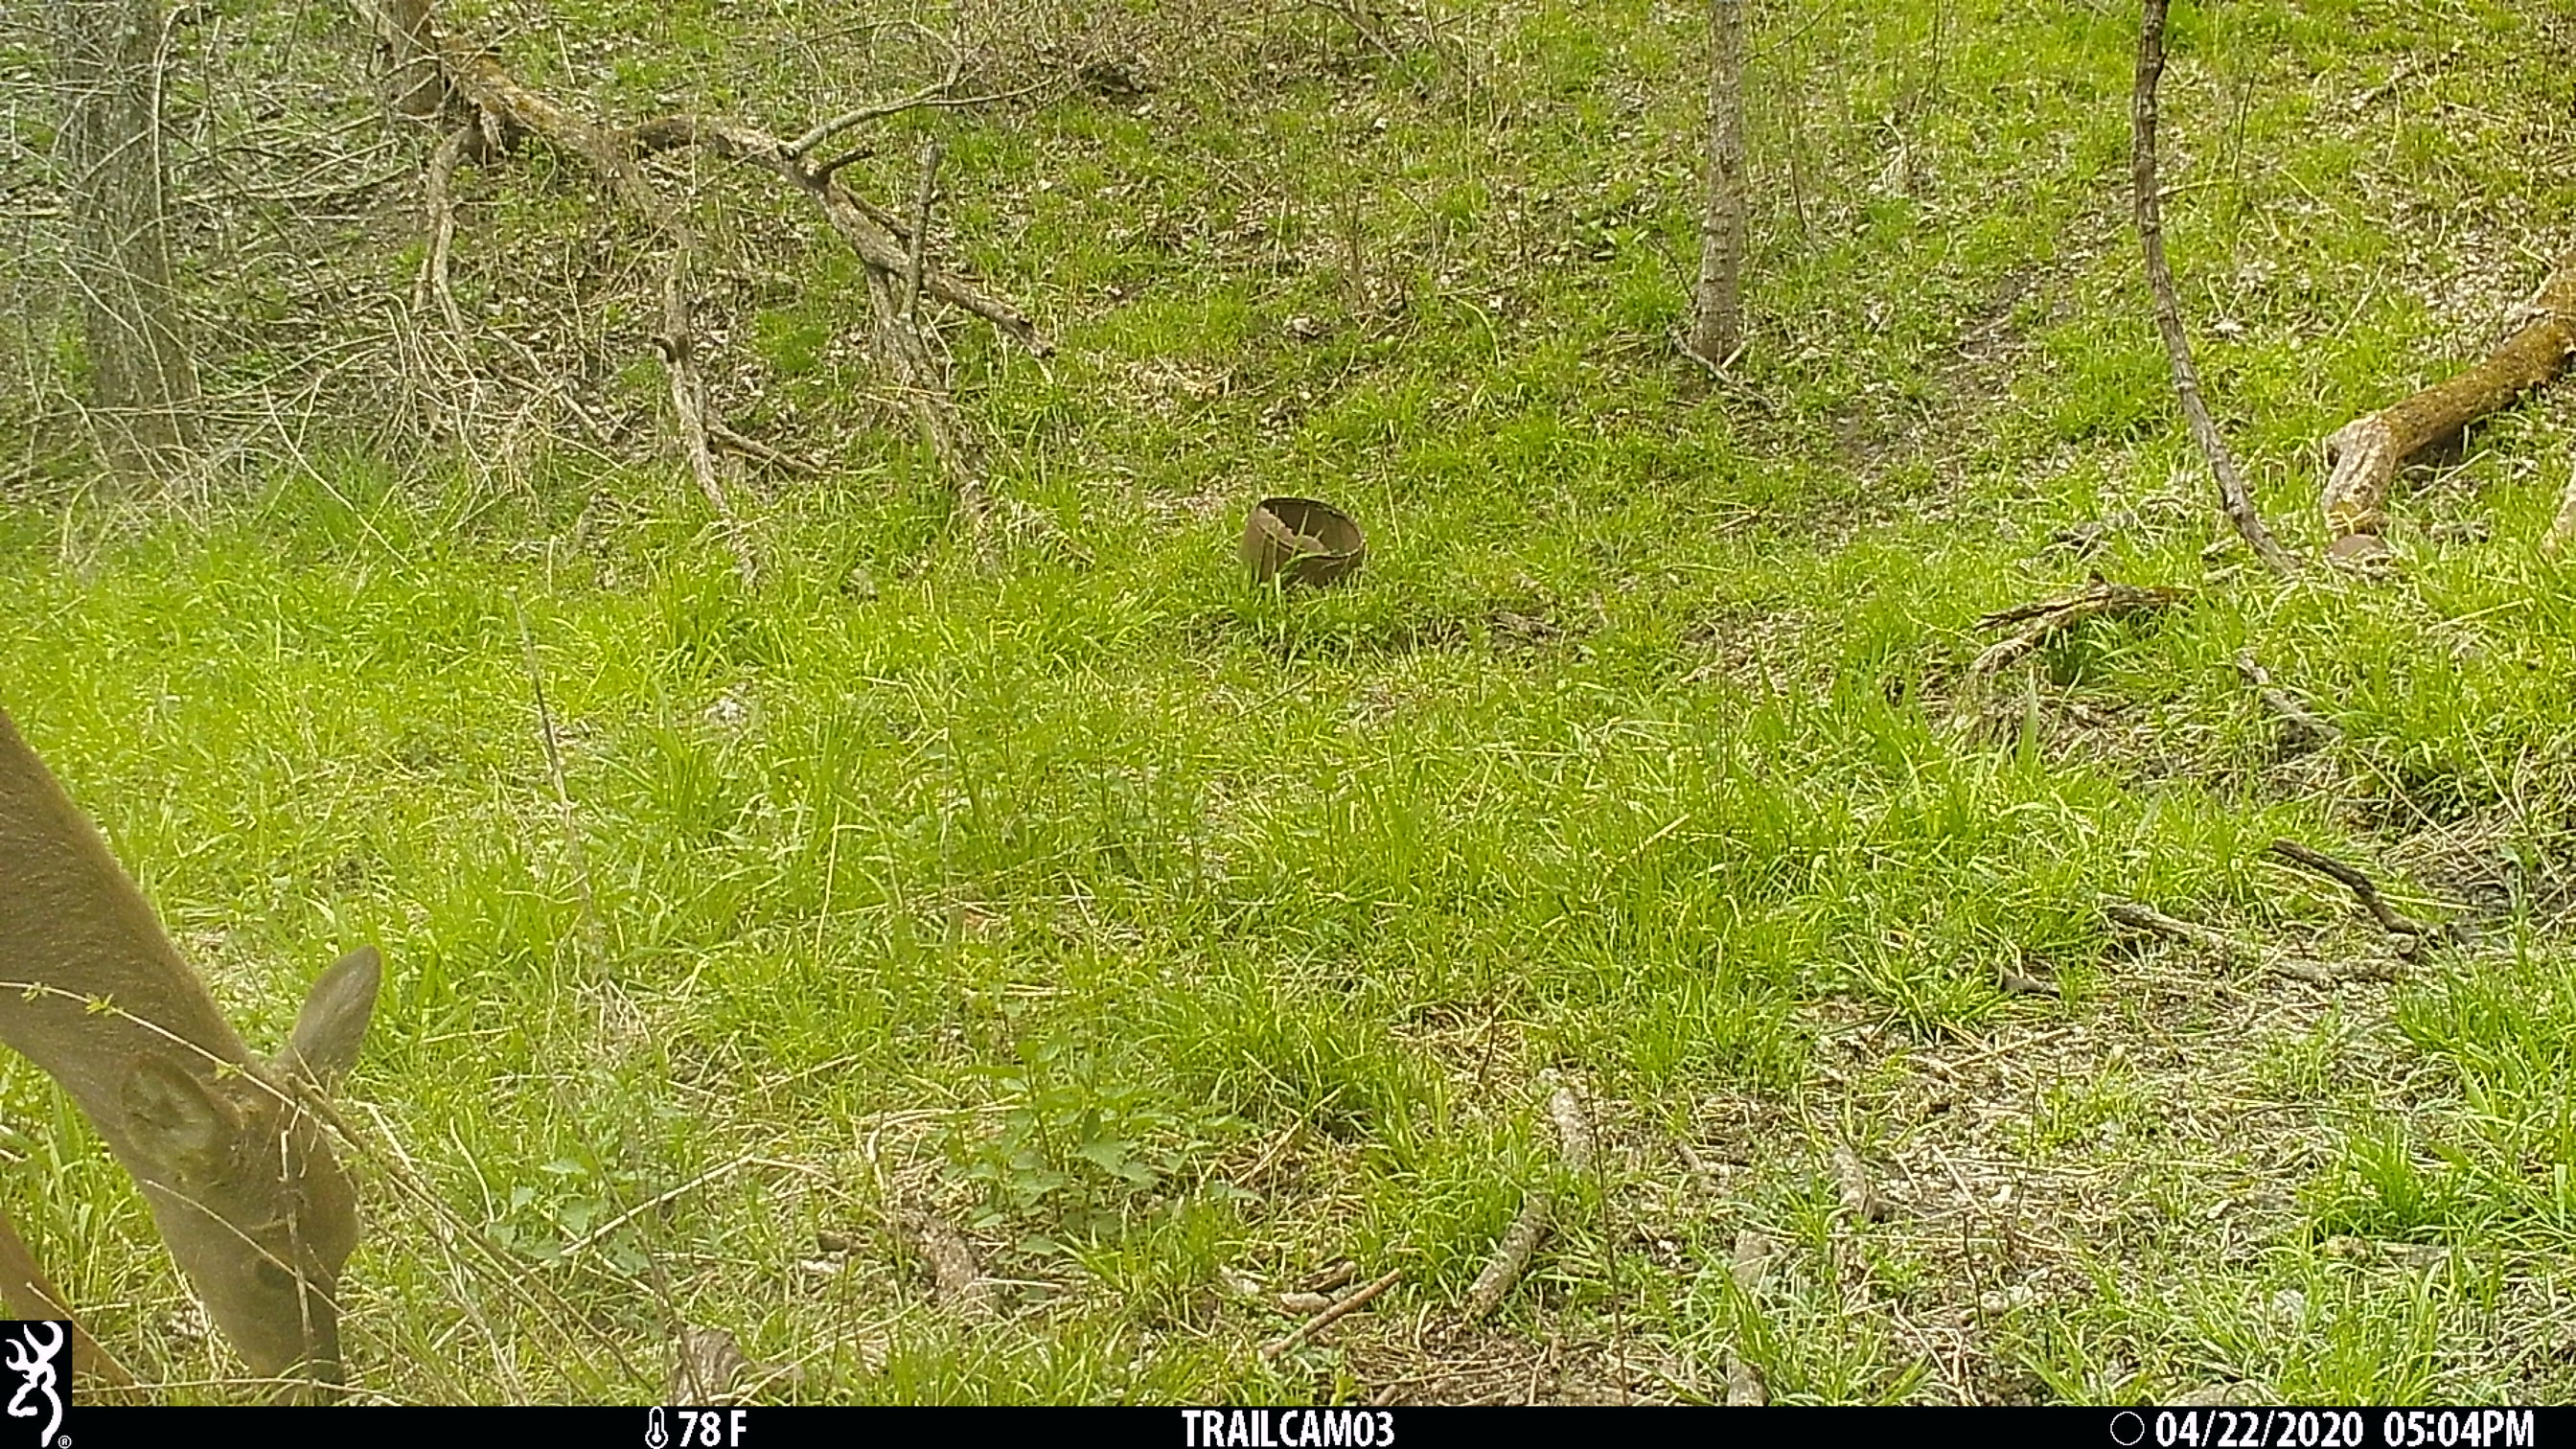DeerDoe: (2, 706, 382, 1407)
